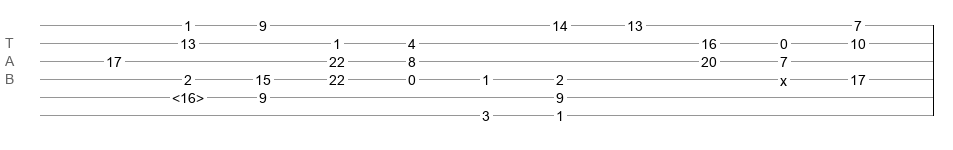0: (408, 72, 416, 82), (780, 36, 788, 46)
1: (184, 18, 192, 28), (333, 36, 341, 46), (482, 72, 490, 82), (556, 108, 564, 118)
10: (850, 36, 866, 46)
13: (180, 36, 196, 46), (627, 18, 643, 28)
14: (552, 18, 568, 28)
15: (255, 72, 271, 82)
16: (701, 36, 717, 46)
17: (106, 54, 122, 64), (850, 72, 866, 82)
2: (184, 72, 192, 82), (556, 72, 564, 82)
20: (701, 54, 717, 64)
22: (329, 72, 345, 82), (329, 54, 345, 64)
3: (482, 108, 490, 118)
4: (408, 36, 416, 46)
7: (780, 54, 788, 64), (854, 18, 862, 28)
8: (408, 54, 416, 64)
9: (259, 90, 267, 100), (259, 18, 267, 28), (556, 90, 564, 100)
harmonic: (172, 90, 204, 100)
x: (780, 73, 787, 81)
